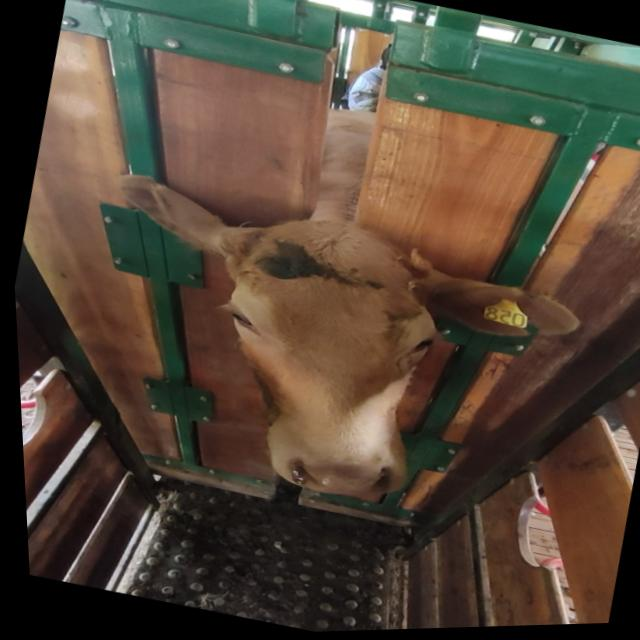cowFace: (189, 203, 466, 515)
